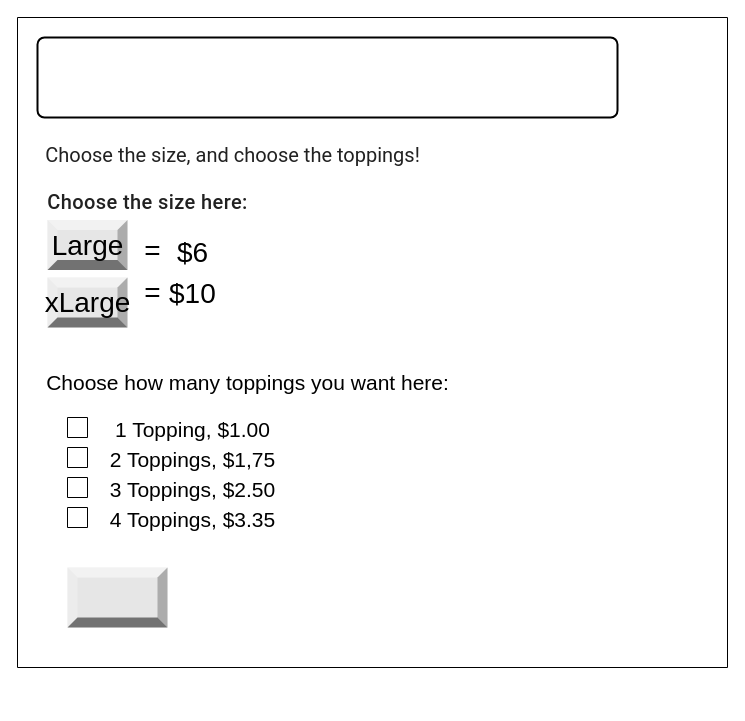
Some shapes in this 745 by 721 pixel diagram are drawn without their labels. The shapes that lost their labels are listed below. From the top down, each one's box as (x1, y1, x2, y2) in pixels, then its label:
(36, 36, 618, 118): Pizza Palace with Javascript
(67, 567, 167, 627): Checkout
